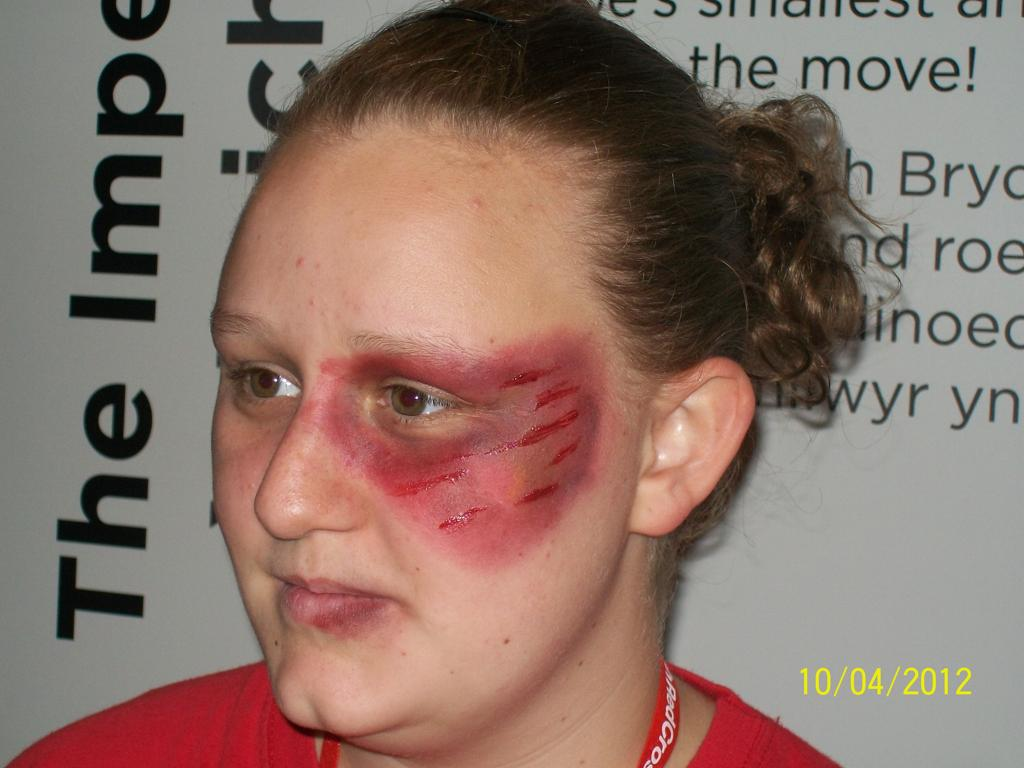face: (211, 155, 619, 735)
